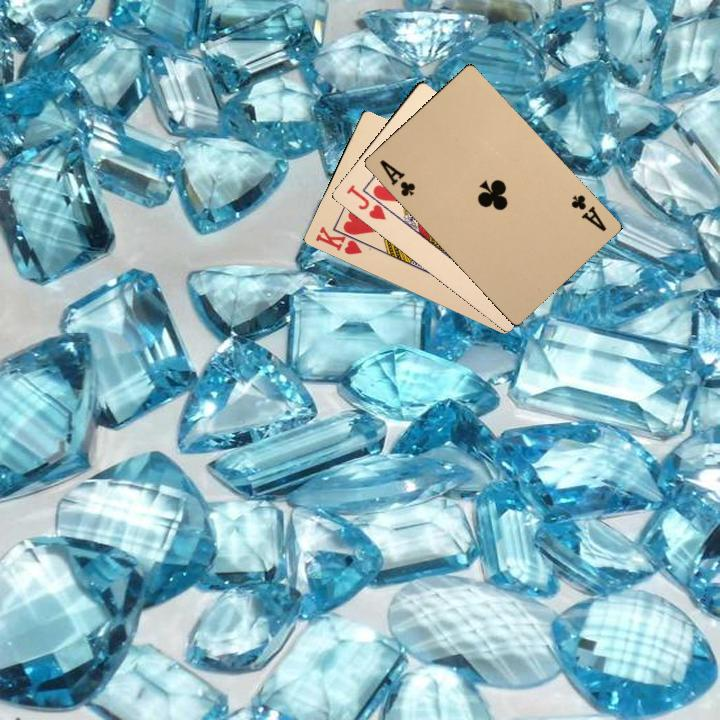Ac: (376, 155, 418, 199), (567, 191, 609, 234)
Jh: (342, 180, 395, 223)
Kh: (311, 222, 368, 257)
